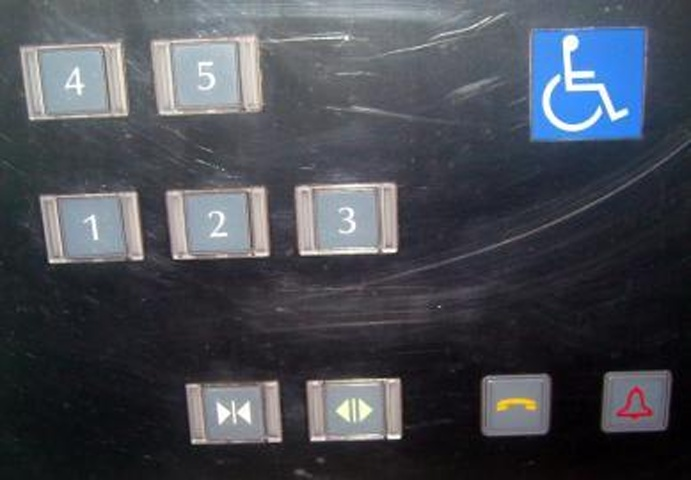1: (36, 188, 146, 266)
2: (163, 183, 271, 264)
3: (293, 180, 401, 257)
4: (17, 39, 130, 125)
5: (149, 34, 266, 121)
CH: (529, 26, 648, 141)
alarm: (601, 367, 671, 433)
call: (479, 372, 551, 437)
close: (183, 378, 288, 446)
open: (305, 375, 405, 442)
